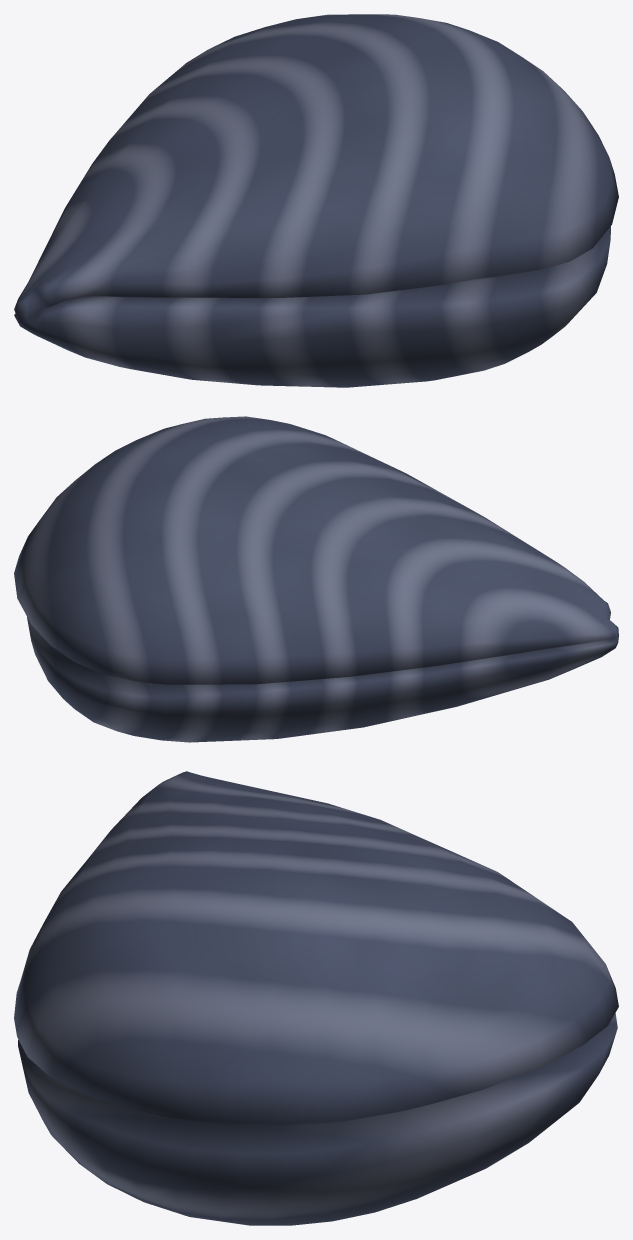
The model's file is shell_mussel.fbx.
3 views of the same model, one above another, from view 1: azimuth 30°, elevation 25°; view 2: azimuth 150°, elevation 25°; view 3: azimuth 270°, elevation 25° (orthographic). The views are drawn at different scales.
Parts seen in each view (by area): view 1: shell_mussel; view 2: shell_mussel; view 3: shell_mussel.
Boxes of the visible parts, x1=… form: shell_mussel: x1=14, y1=14, x2=618, y2=387; shell_mussel: x1=14, y1=416, x2=618, y2=742; shell_mussel: x1=14, y1=771, x2=618, y2=1225.
Bounding box in the file's own units: 0.1401 × 0.0653 × 0.1082.
1 material, 1 textured.
